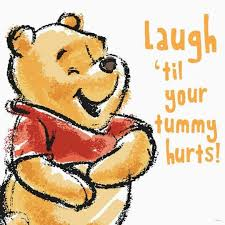Winnie: (1, 13, 135, 165)
